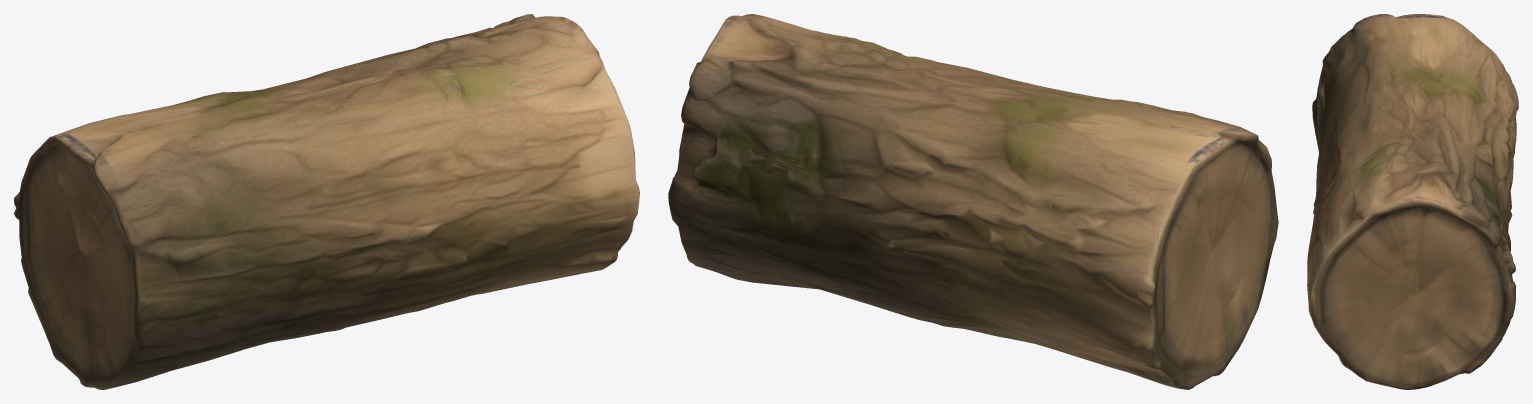
The model's file is rescue-log.glb.
3 views of the same model, side by side, from view 1: azimuth 30°, elevation 25°; view 2: azimuth 150°, elevation 25°; view 3: azimuth 270°, elevation 25° (orthographic). The views are drawn at different scales.
Parts seen in each view (by area): view 1: Mesh_0; view 2: Mesh_0; view 3: Mesh_0.
Part boxes in pixels (<box>): Mesh_0: <box>14,14,639,389</box>; Mesh_0: <box>668,14,1278,389</box>; Mesh_0: <box>1307,14,1518,389</box>.
Size of the model in its own units: 1.9 by 0.8755 by 0.8648.
1 material, 1 textured.
